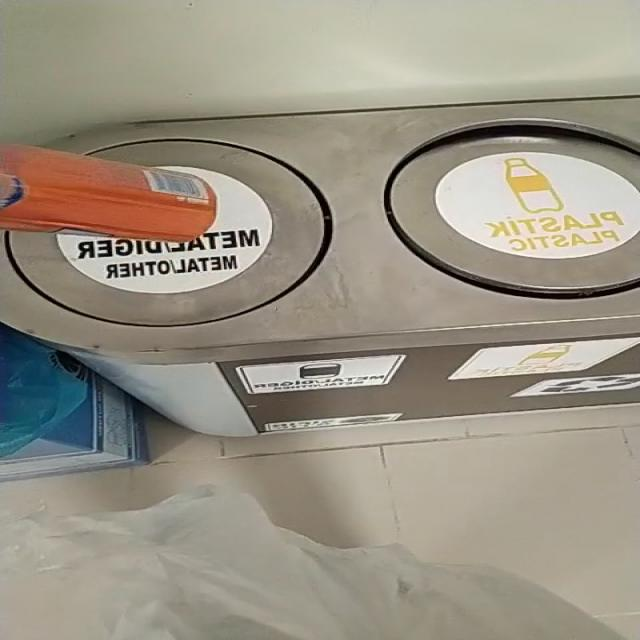bin: (3, 99, 639, 371)
metal: (0, 146, 216, 242)
